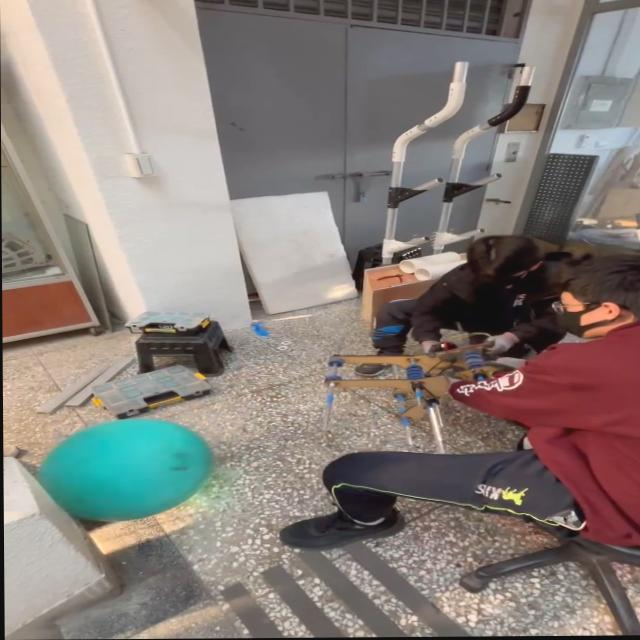ALGAE: (35, 416, 216, 523)
